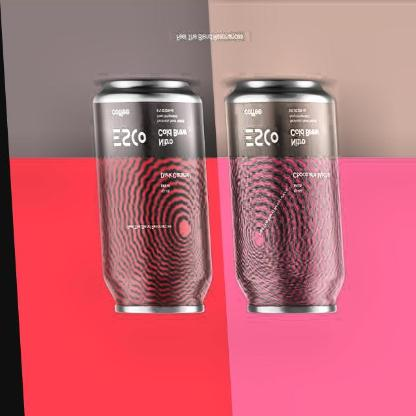Can: (87, 80, 217, 324), (221, 75, 351, 316)
